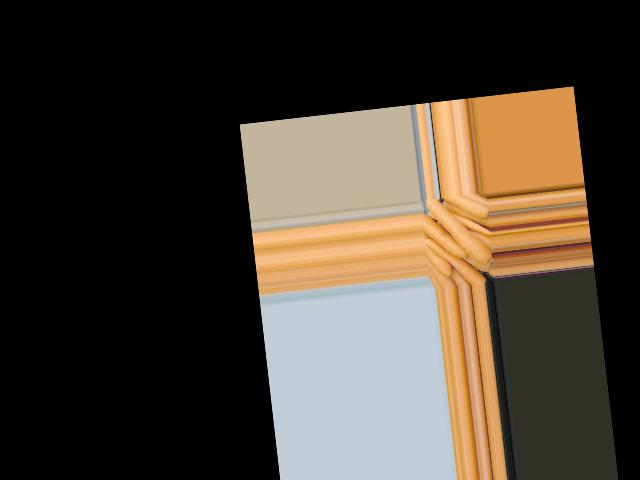carrot: (427, 235, 480, 289)
